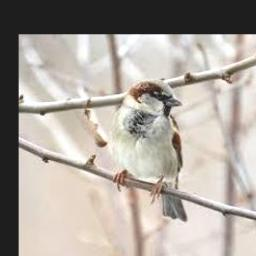Sparrow: (112, 79, 188, 221)
